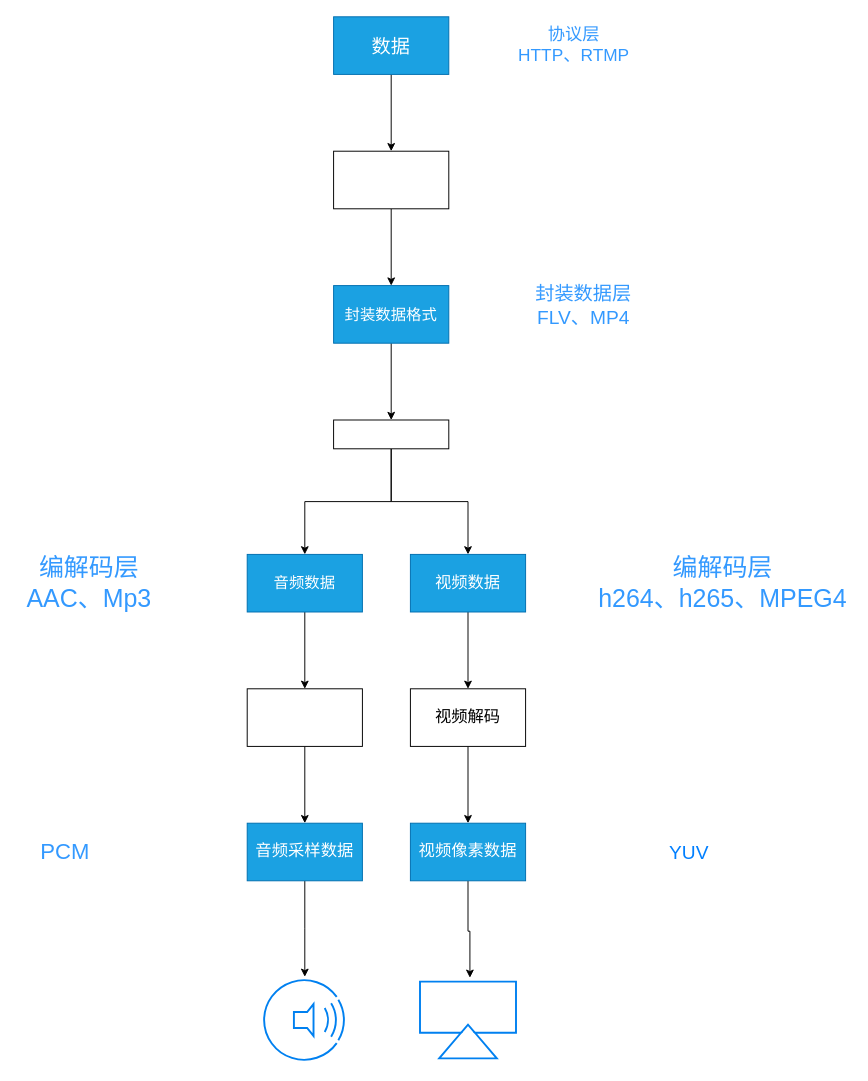
This 868x1081 diagram has some shape labels left out. Here are the shapes that lost their labels. From the top down, the centre of each, then its label:
point (391, 179): 解协议
point (391, 434): 解封装
point (304, 717): 音频解码
